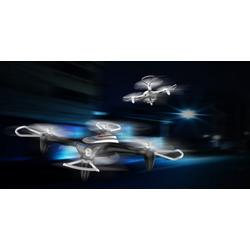drone: (15, 117, 185, 180), (122, 73, 179, 106)
